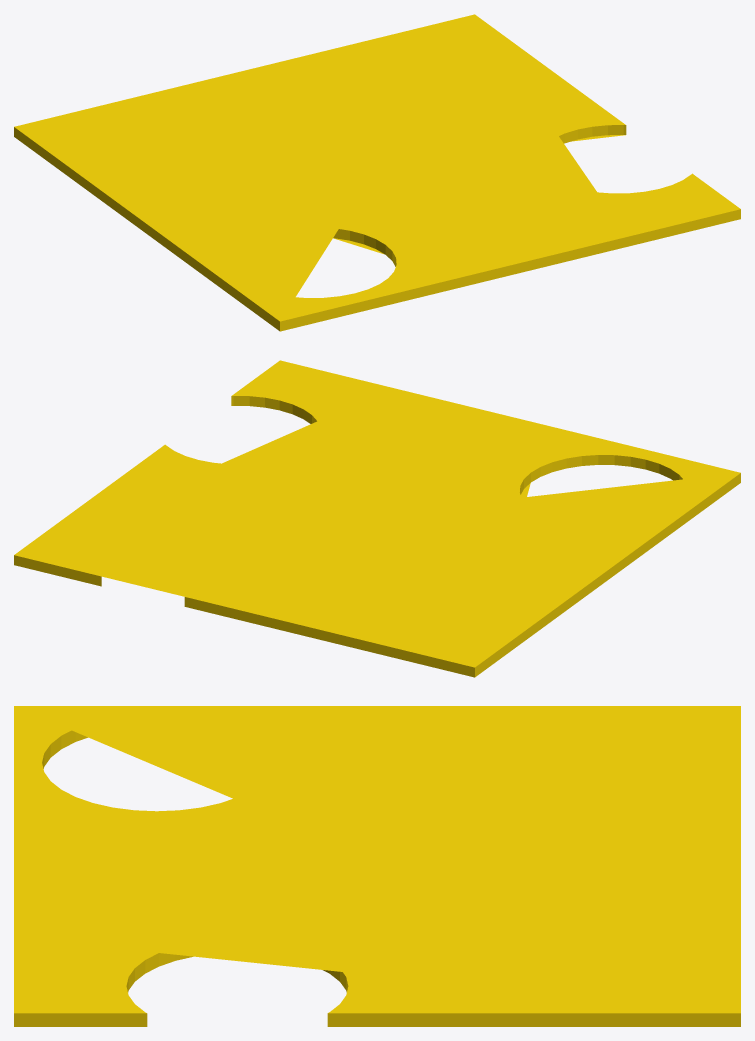
Rendered from FBX_Cheese_V2.fbx.
3 views of the same model, one above another, from view 1: azimuth 30°, elevation 25°; view 2: azimuth 150°, elevation 25°; view 3: azimuth 270°, elevation 25° (orthographic). The views are drawn at different scales.
Visible parts, largest first — view 1: cheese; view 2: cheese; view 3: cheese.
Part boxes in pixels (x1,y1,x2,y2): cheese: (14,14,740,331); cheese: (14,360,740,677); cheese: (14,706,740,1026).
Size of the model in its own units: 200 by 4.14 by 200.
